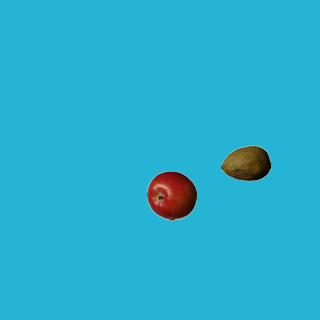Apple Braeburn: (146, 170, 196, 220)
Papaya: (220, 138, 270, 188)
